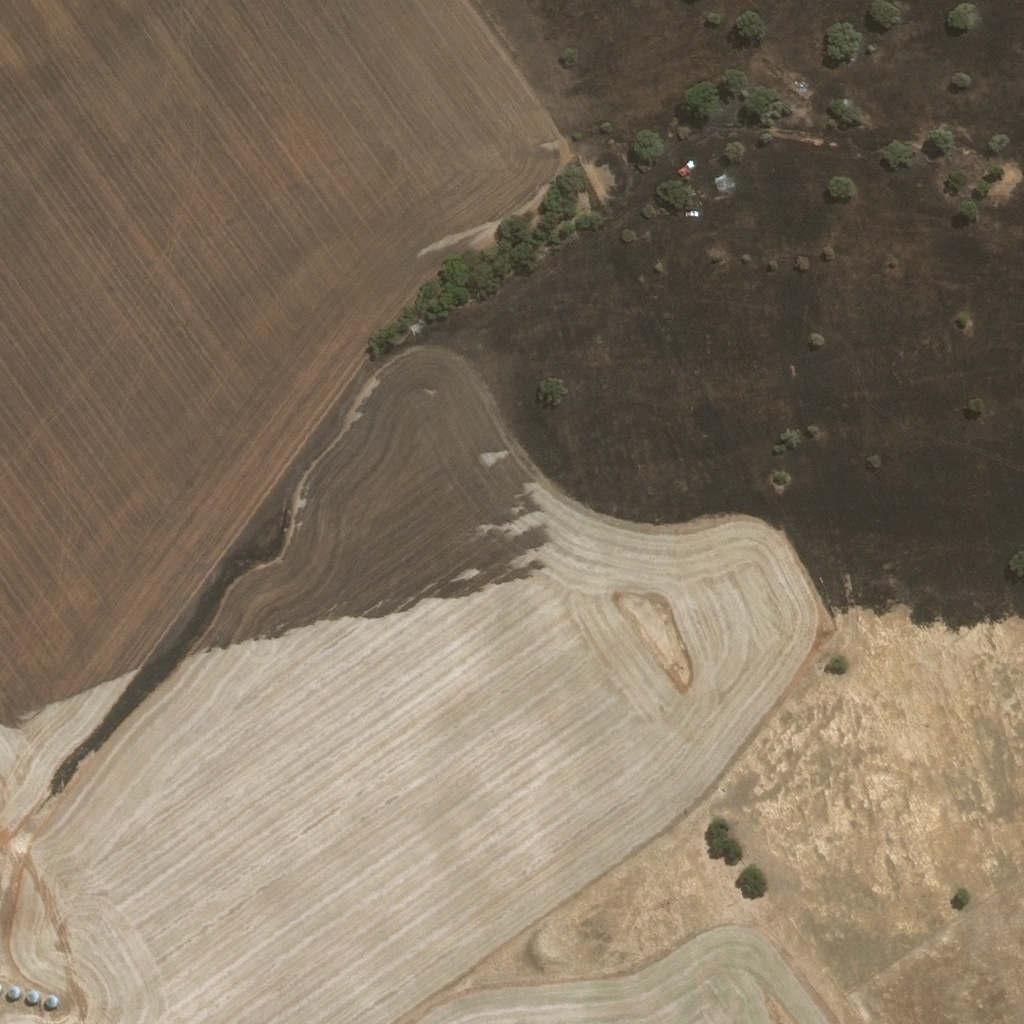0 no-damage: (7, 984, 21, 998), (27, 988, 40, 1002), (46, 993, 58, 1006)
4 un-classified: (0, 982, 3, 992)
